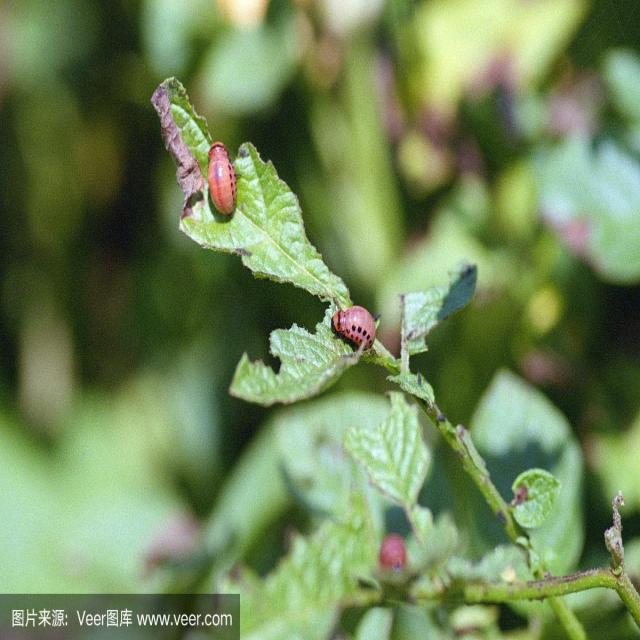ShuCaiHuaBanChong-Larva-: (186, 102, 259, 235), (330, 298, 386, 369)
